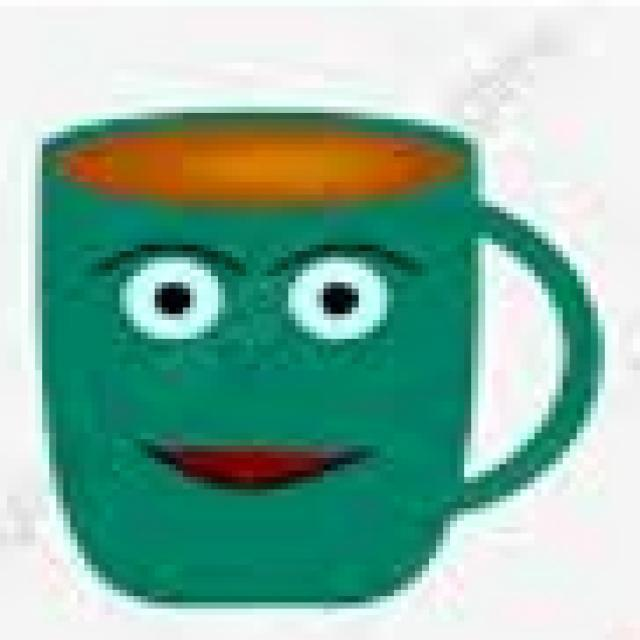taza: (39, 106, 604, 607)
